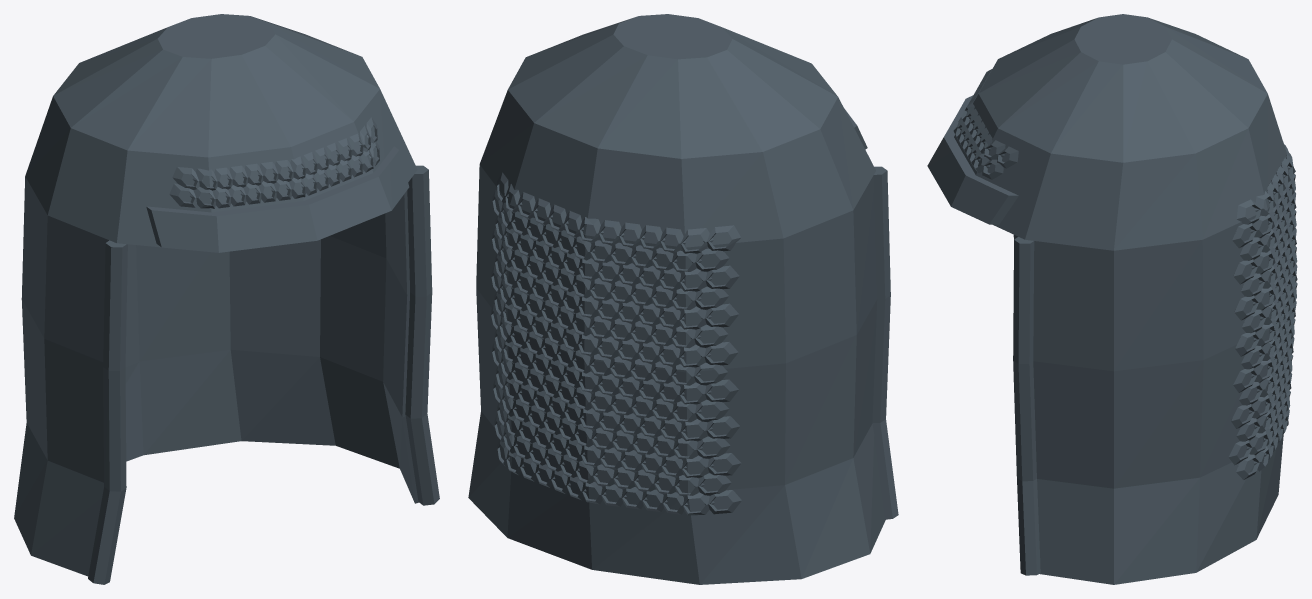
File: chain_head-male.glb
The picture shows the model from 3 angles, left to right: view 1: azimuth 30°, elevation 25°; view 2: azimuth 150°, elevation 25°; view 3: azimuth 270°, elevation 25°; orthographic projection. The views are drawn at different scales.
Parts seen in each view (by area): view 1: chain joined crown and cowl, Fitted brow binding, Bound face opening -1, Bound face opening 1, chain woven coverage on chain joined crown and cowl; view 2: chain joined crown and cowl, chain coif nape coverage, Bound face opening -1; view 3: chain joined crown and cowl, chain coif nape coverage, Bound face opening 1, Fitted brow binding, chain woven coverage on chain joined crown and cowl.
Boxes of the visible parts, x1=… form: chain joined crown and cowl: x1=14, y1=14, x2=418, y2=576; Fitted brow binding: x1=146, y1=146, x2=409, y2=252; Bound face opening -1: x1=88, y1=240, x2=127, y2=584; Bound face opening 1: x1=405, y1=165, x2=439, y2=505; chain woven coverage on chain joined crown and cowl: x1=169, y1=117, x2=379, y2=208; chain joined crown and cowl: x1=468, y1=14, x2=885, y2=584; chain coif nape coverage: x1=491, y1=172, x2=741, y2=515; Bound face opening -1: x1=872, y1=166, x2=898, y2=519; chain joined crown and cowl: x1=954, y1=14, x2=1289, y2=584; chain coif nape coverage: x1=1228, y1=144, x2=1297, y2=479; Bound face opening 1: x1=1013, y1=237, x2=1040, y2=575; Fitted brow binding: x1=927, y1=95, x2=1018, y2=224; chain woven coverage on chain joined crown and cowl: x1=953, y1=69, x2=1018, y2=179.
Bounding box in the file's own units: 1.14 × 1.35 × 0.9875.
